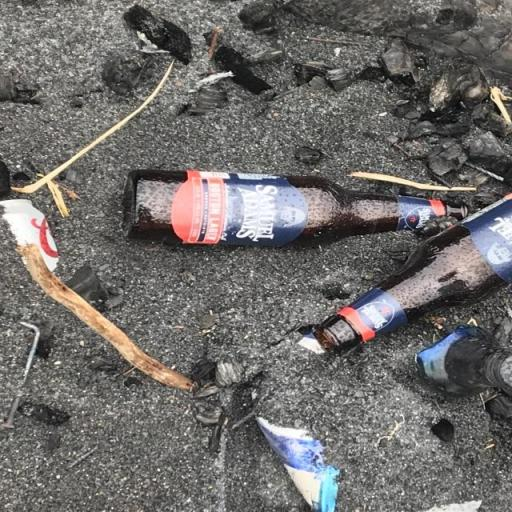glass: (114, 154, 474, 256), (306, 201, 512, 356), (402, 308, 512, 405), (255, 415, 342, 510)
